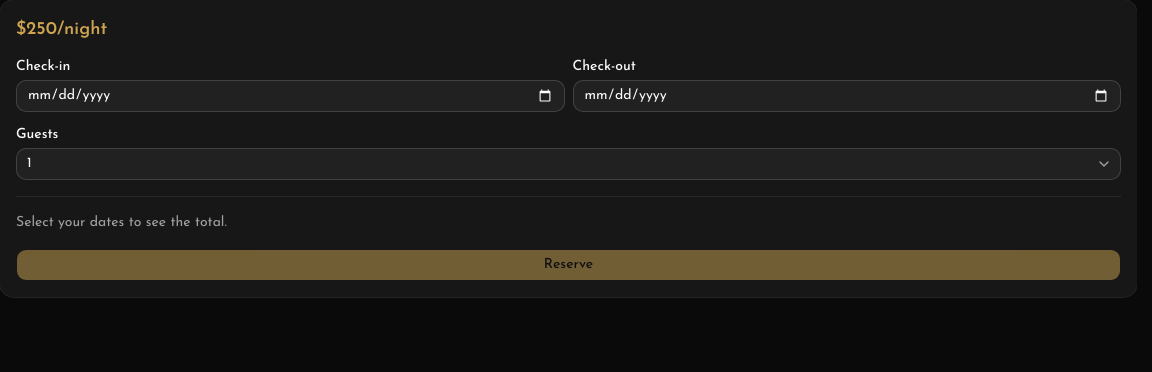
Test: CabinBookingPanel › computes and displays the live total once both dates are set
Type "2026-08-15" into the date field labelled "Check-in" at (290, 96), box [16,80,564,112]
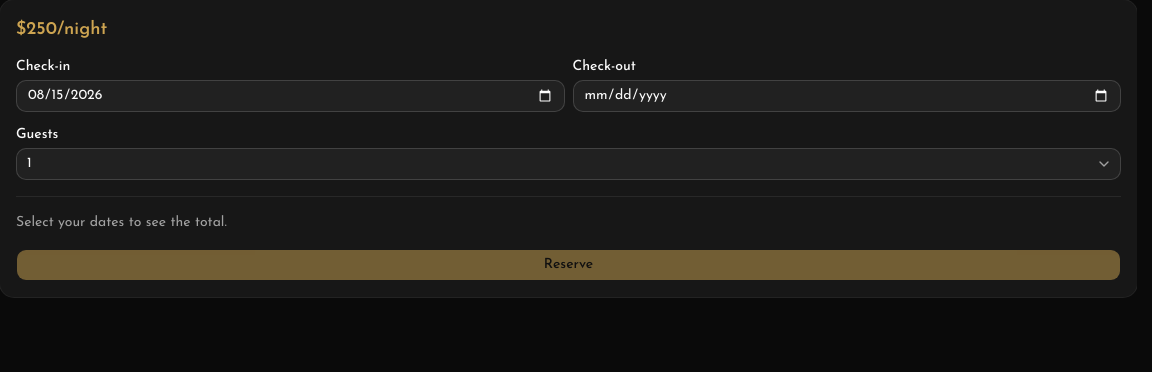
Type "2026-08-18" into the date field labelled "Check-out" at (847, 96), box [572,80,1121,112]
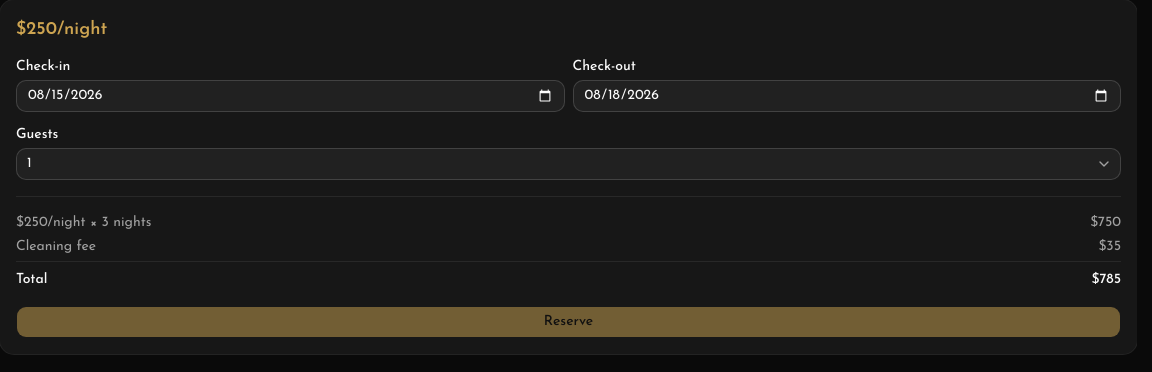
Result: the text "$785" is shown at [1092,270,1121,290]
